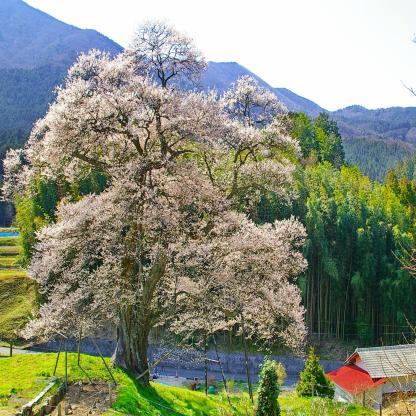EdohiganSakura: (1, 15, 309, 365)
